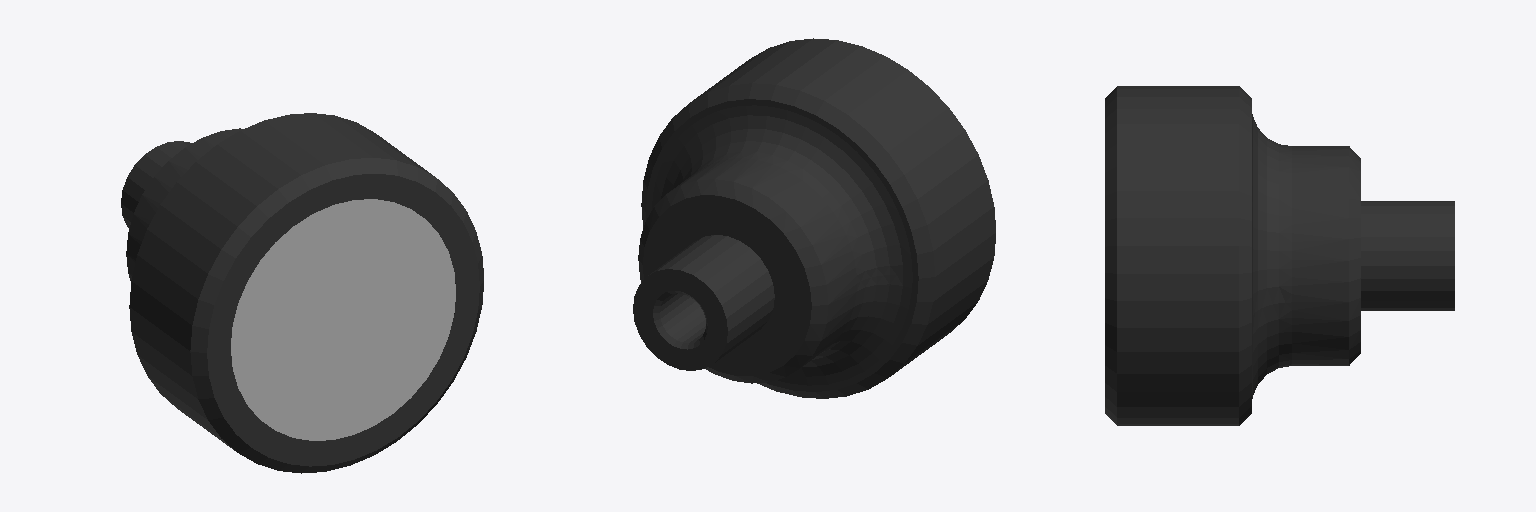
The picture shows the model from 3 angles: view 1: azimuth 30°, elevation 25°; view 2: azimuth 150°, elevation 25°; view 3: azimuth 270°, elevation 25°; orthographic projection.
Visible parts, largest first — view 1: gn_3663-42-m8-2_1; view 2: gn_3663-42-m8-2_1; view 3: gn_3663-42-m8-2_1.
Boxes of the visible parts, x1=… form: gn_3663-42-m8-2_1: x1=121, y1=113, x2=483, y2=473; gn_3663-42-m8-2_1: x1=633, y1=38, x2=995, y2=398; gn_3663-42-m8-2_1: x1=1105, y1=86, x2=1454, y2=425.
Bounding box in the file's own units: 41.7 × 41.56 × 43.